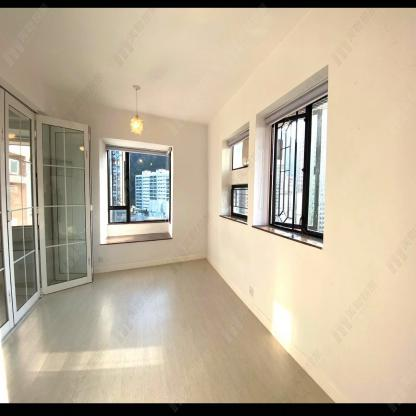Windowsill: (99, 136, 174, 244)
